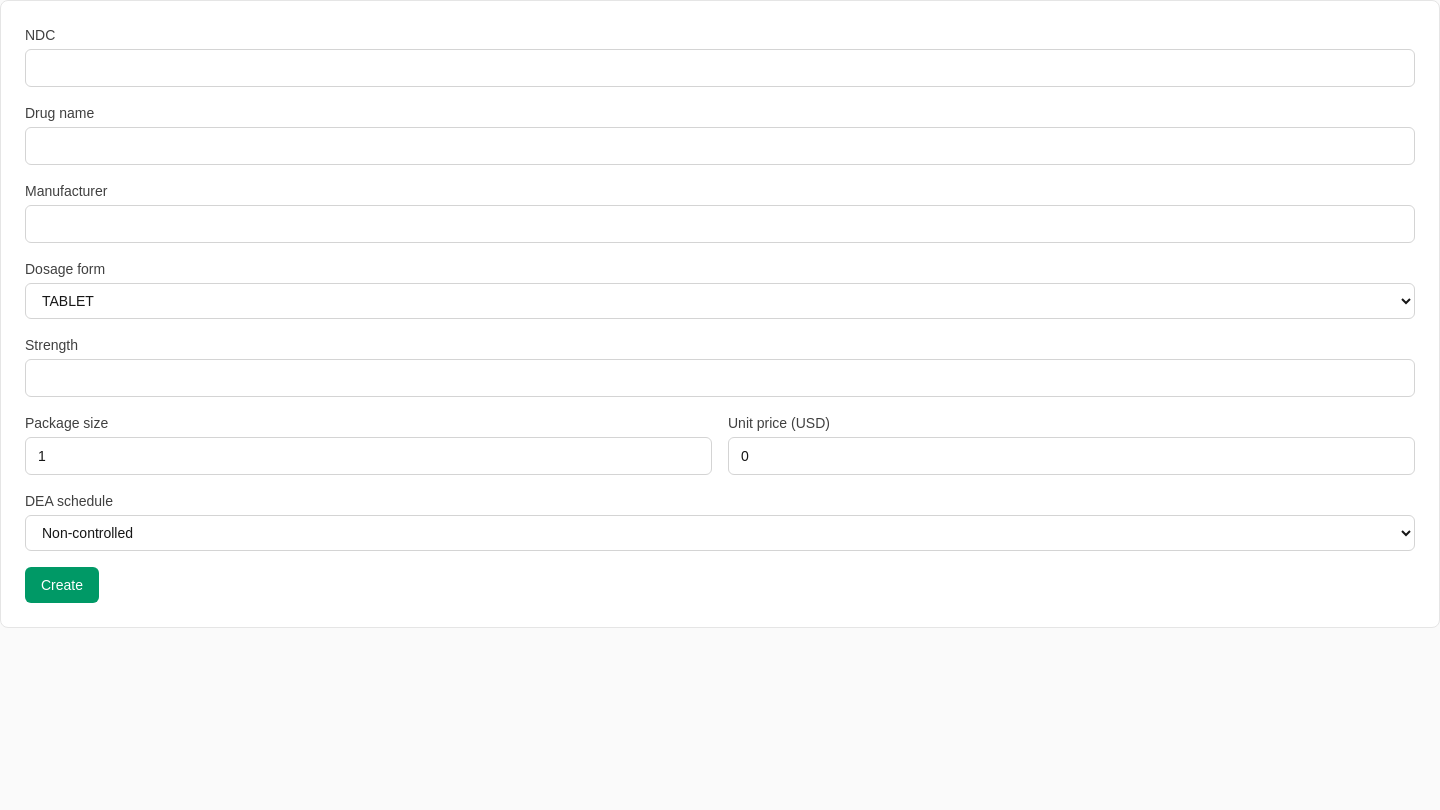
Test: DrugForm › shows NDC validation error for invalid format
Type "INVALID" into the field labelled "NDC" at x=720, y=68, box [25, 49, 1415, 87]
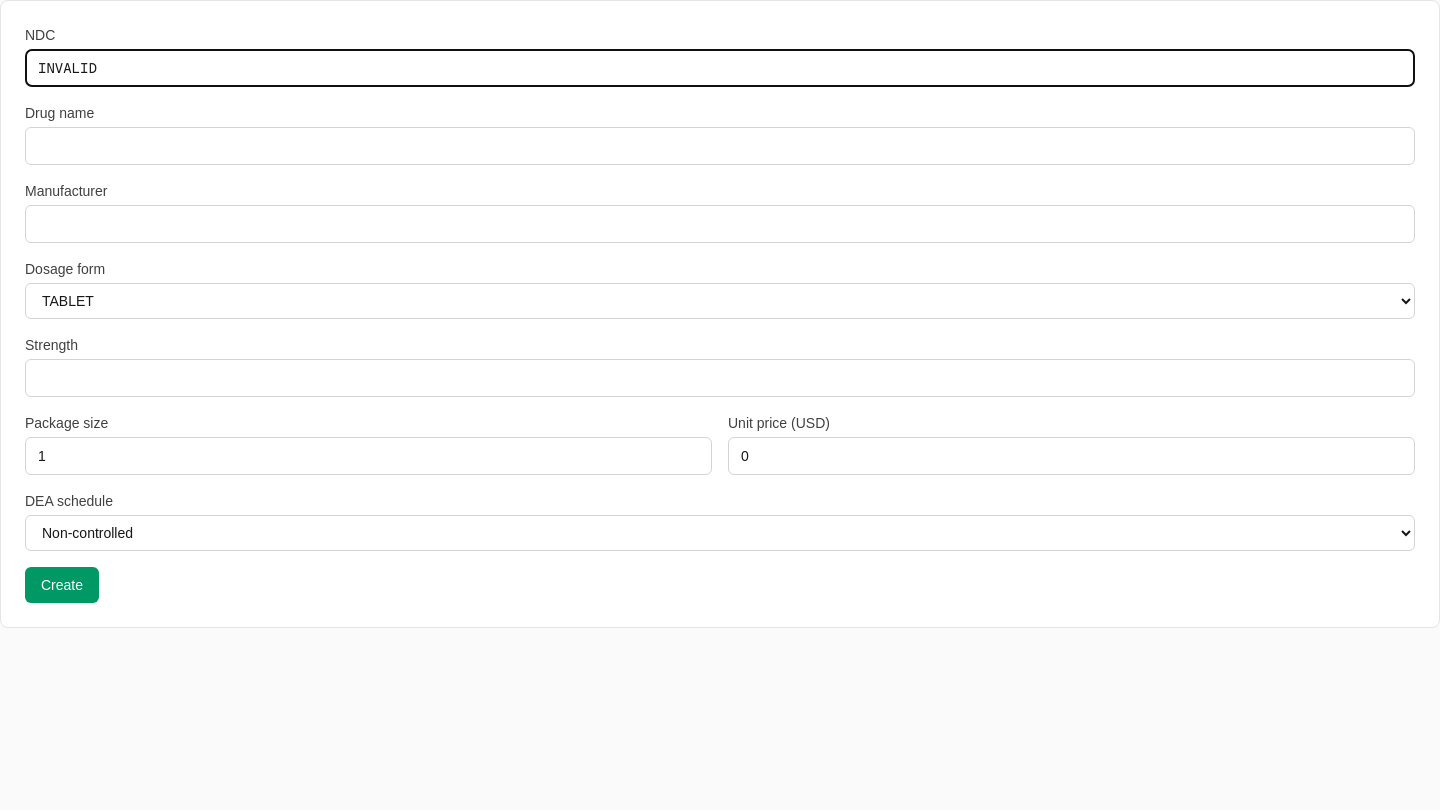
Type "Test Drug" into the field labelled "Drug name" at x=720, y=146, box [25, 127, 1415, 165]
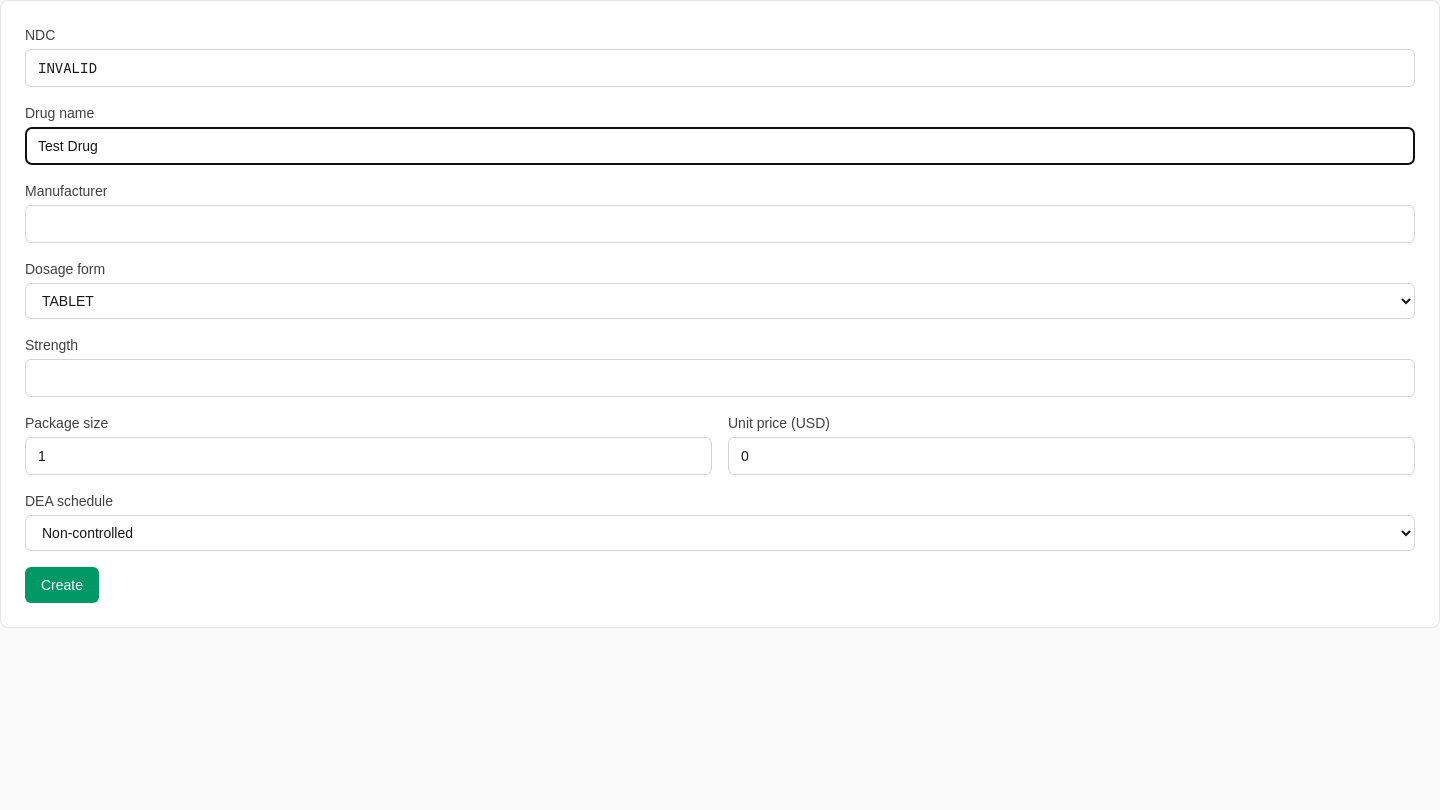
Type "Acme" into the field labelled "Manufacturer" at x=720, y=224, box [25, 205, 1415, 243]
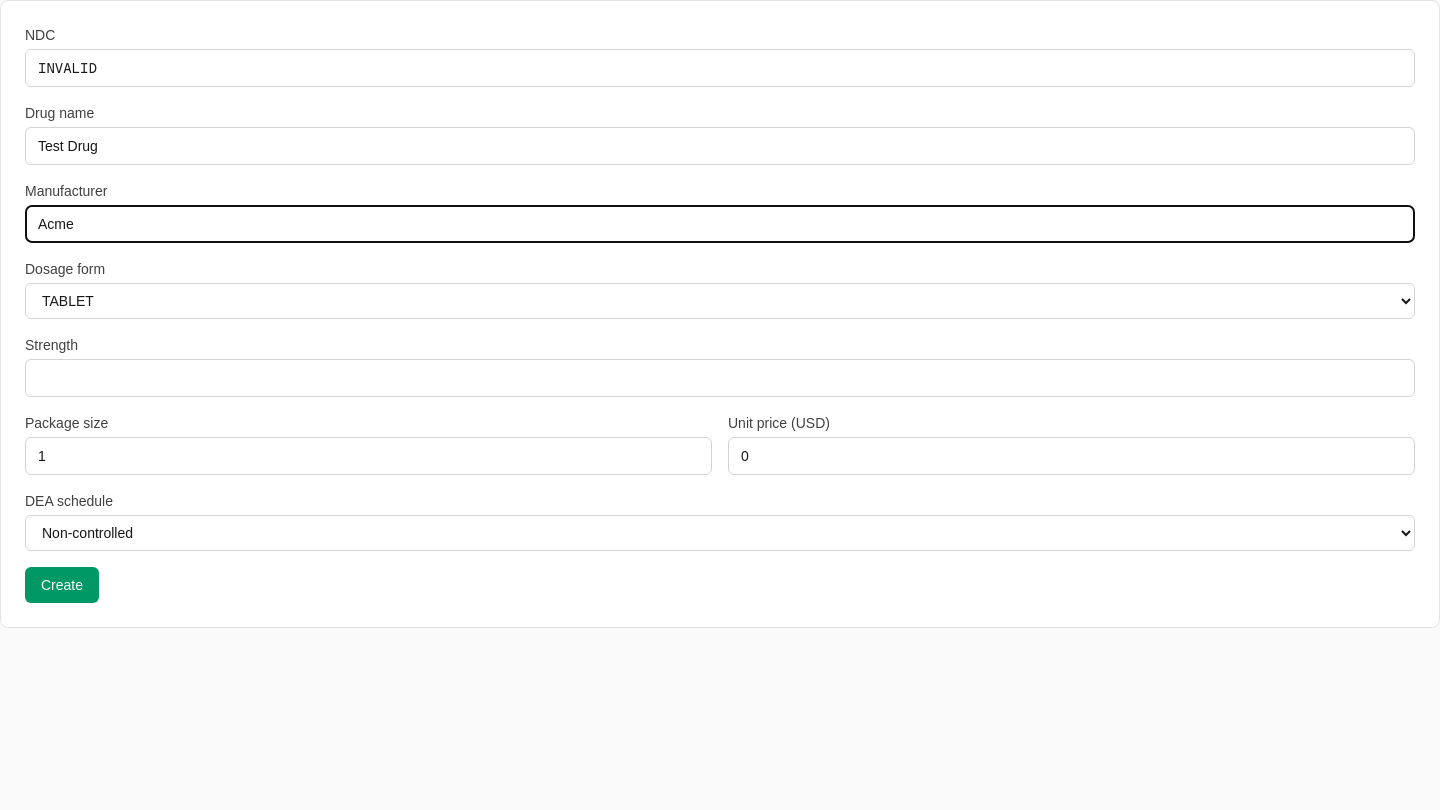
Type "10mg" into the field labelled "Strength" at x=720, y=378, box [25, 359, 1415, 397]
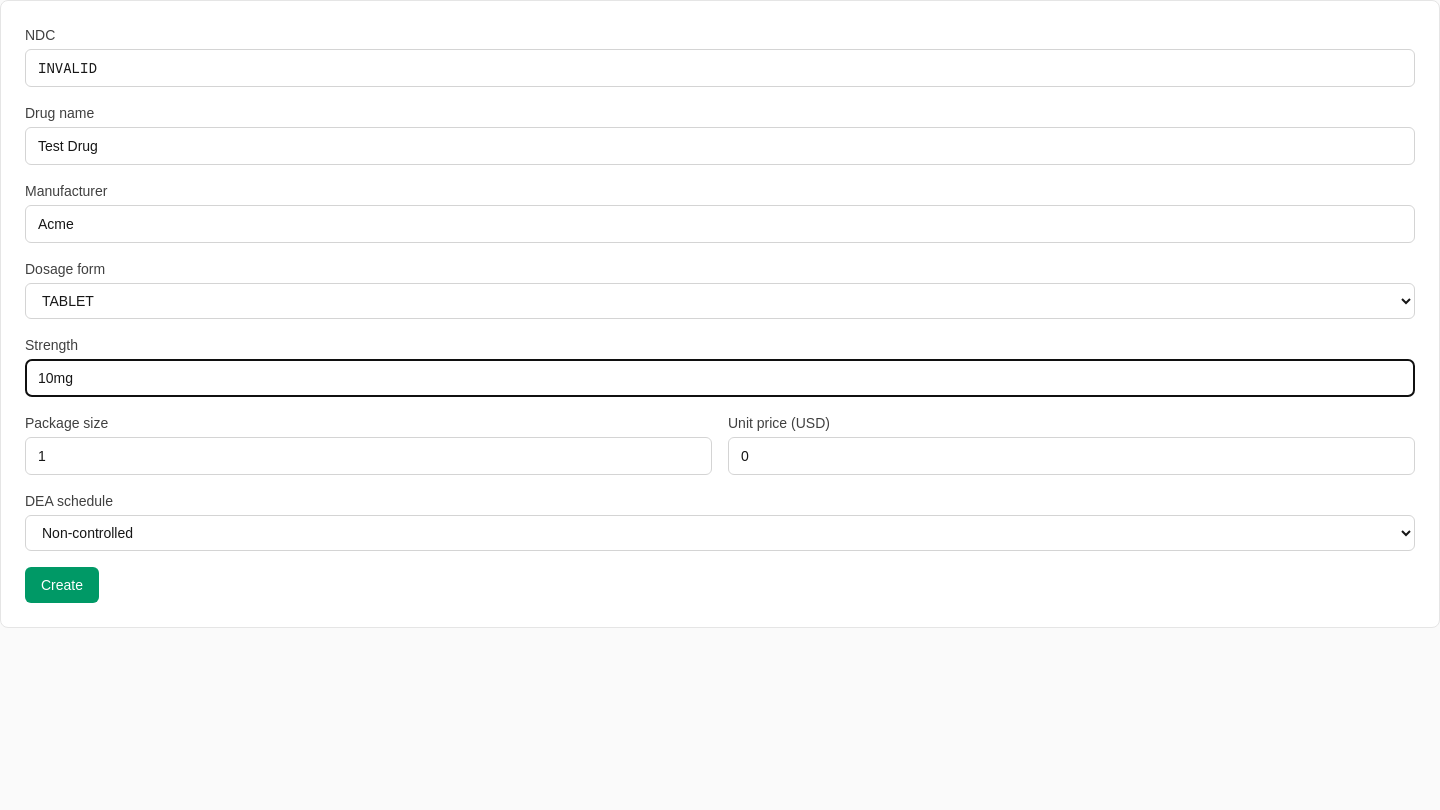
Click the button "Create" at x=62, y=585, box [25, 567, 99, 603]
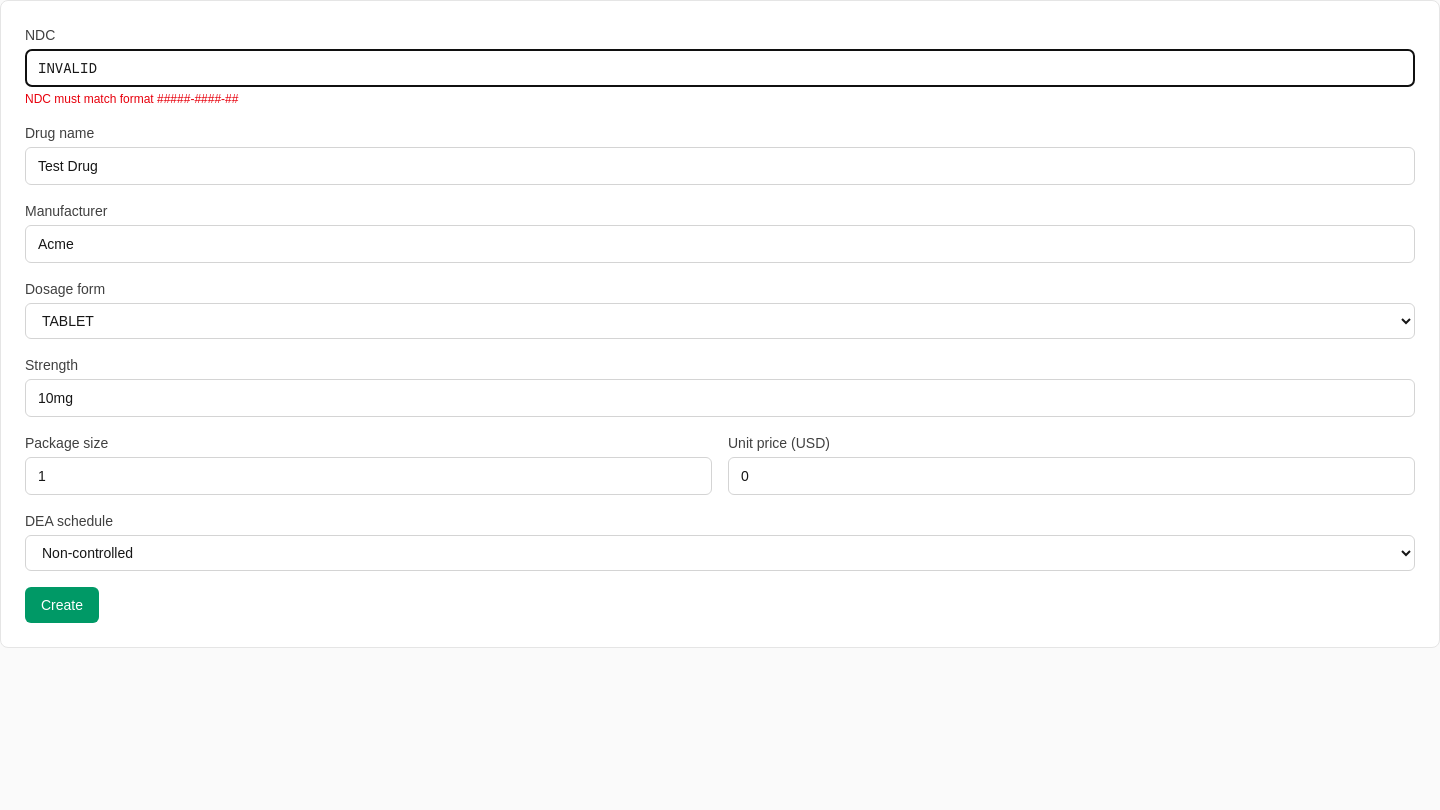
Result: the text "NDC must match format #####-####-##" is shown at [25, 92, 238, 106]
